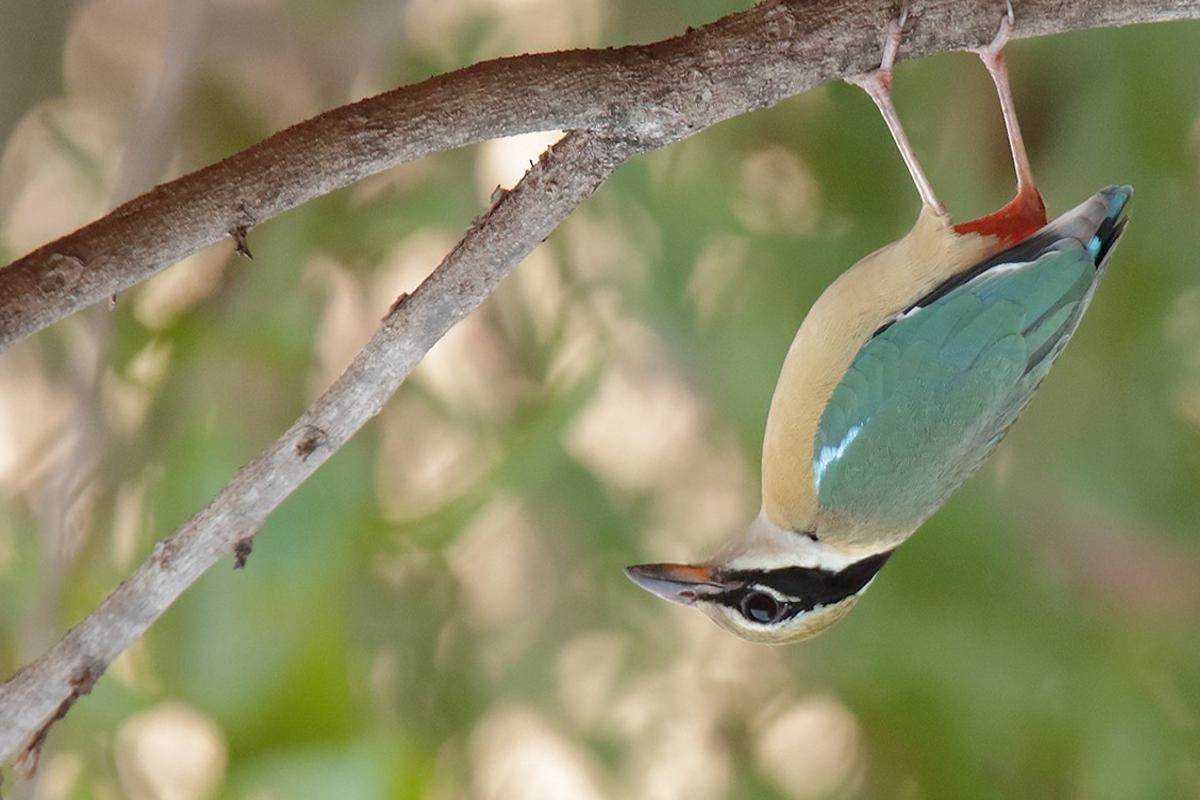pitta: (589, 55, 1104, 640)
